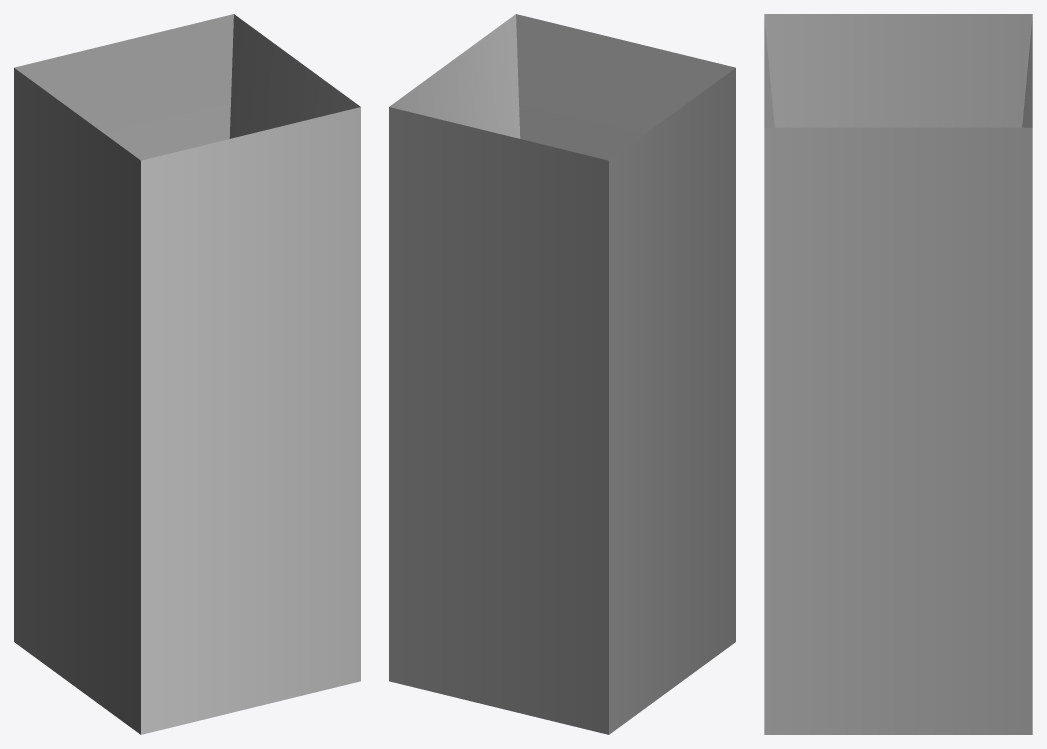
File: SM_Food_Graper.fbx
3 views of the same model, side by side, from view 1: azimuth 30°, elevation 25°; view 2: azimuth 150°, elevation 25°; view 3: azimuth 270°, elevation 25° (orthographic). The views are drawn at different scales.
Visible parts, largest first — view 1: Food_graper; view 2: Food_graper; view 3: Food_graper.
Boxes of the visible parts, x1,y1,x2,y2 form: Food_graper: [14, 14, 360, 734]; Food_graper: [389, 14, 735, 734]; Food_graper: [764, 14, 1032, 734].
Size of the model in its own units: 0.0585 by 0.1459 by 0.0585.
